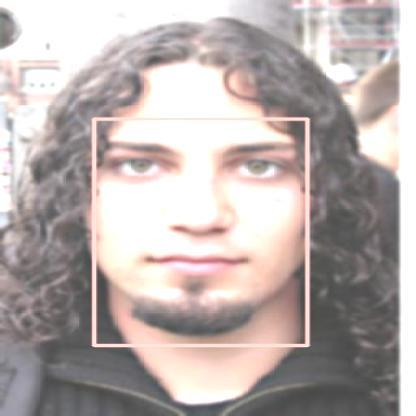without_mask: (94, 119, 307, 345)
